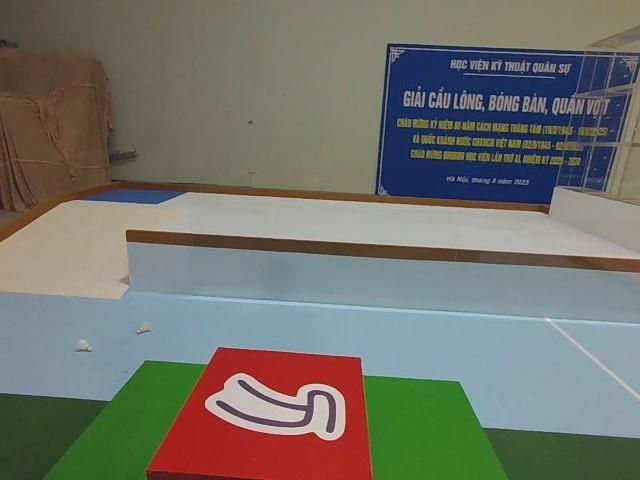R2 Fake: (144, 341, 375, 480)
